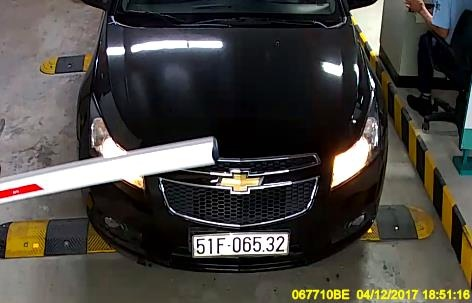plate: (189, 228, 288, 256)
